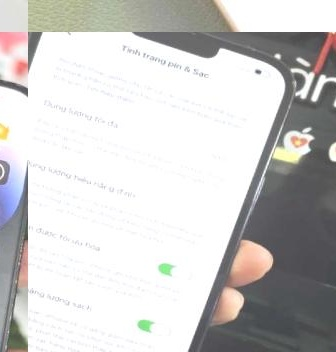scratch: (0, 221, 28, 352), (28, 32, 53, 102)
